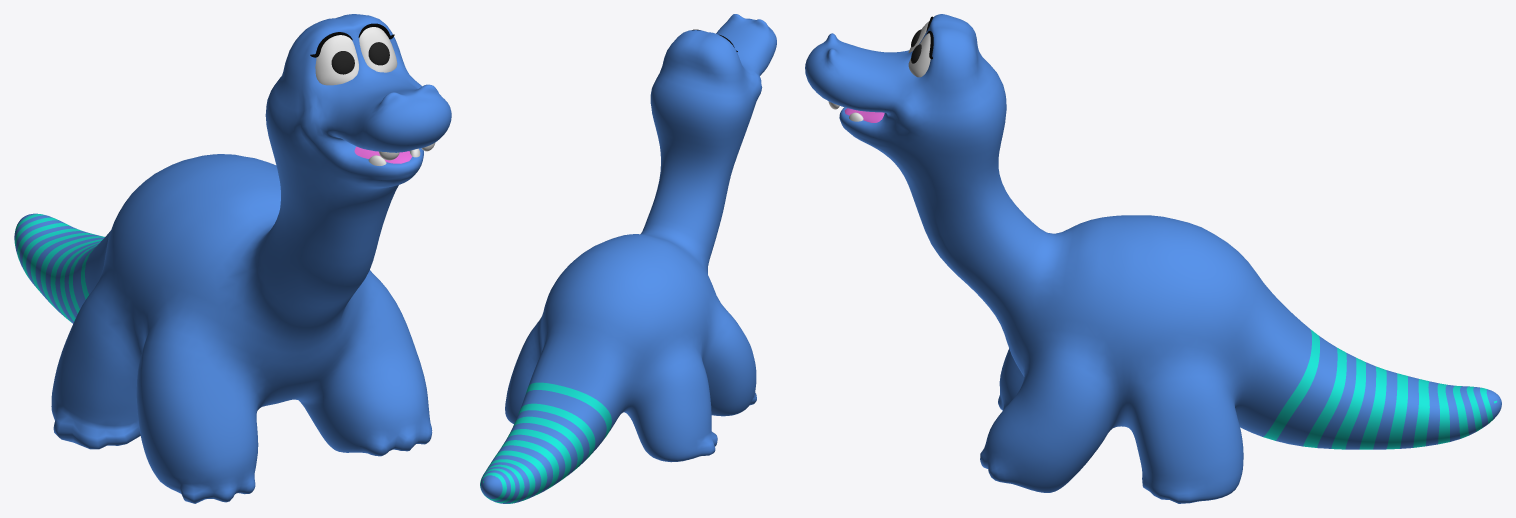
File: dino.fbx
3 views of the same model, side by side, from view 1: azimuth 30°, elevation 25°; view 2: azimuth 150°, elevation 25°; view 3: azimuth 270°, elevation 25° (orthographic). The views are drawn at different scales.
Parts seen in each view (by area): view 1: Body, Eyes, Pupils; view 2: Body; view 3: Body.
Boxes of the visible parts, x1=… form: Body: x1=14, y1=14, x2=451, y2=503; Eyes: x1=315, y1=27, x2=397, y2=85; Pupils: x1=331, y1=42, x2=389, y2=74; Body: x1=480, y1=14, x2=776, y2=503; Body: x1=805, y1=14, x2=1501, y2=503.
Size of the model in its own units: 72.85 by 115 by 170.
